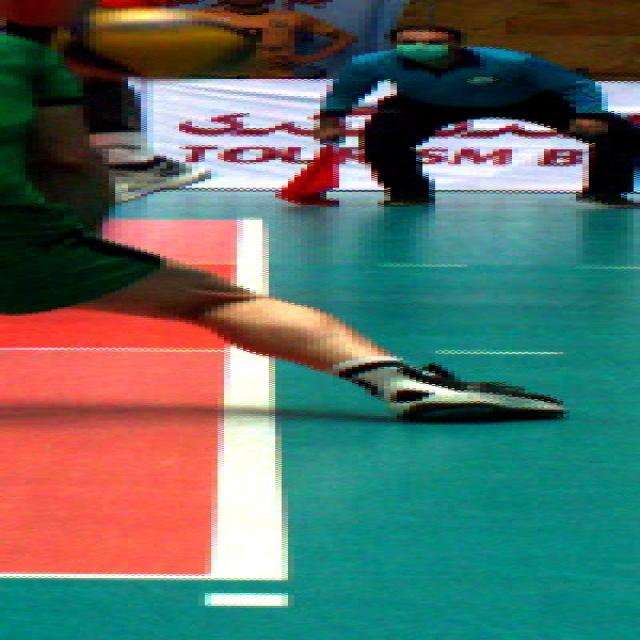Volleyball: (61, 11, 262, 77)
